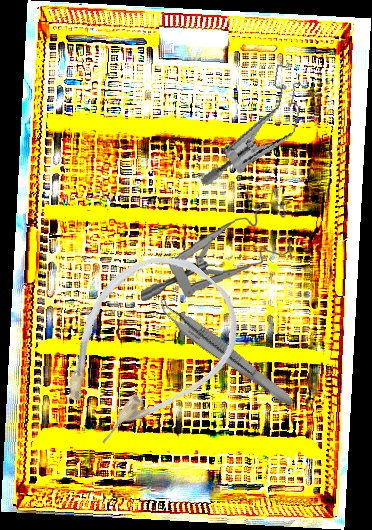Cannula: (26, 229, 262, 469)
Speculum: (199, 48, 314, 203), (135, 200, 295, 302)
Tissue Forceps: (150, 293, 302, 410)
